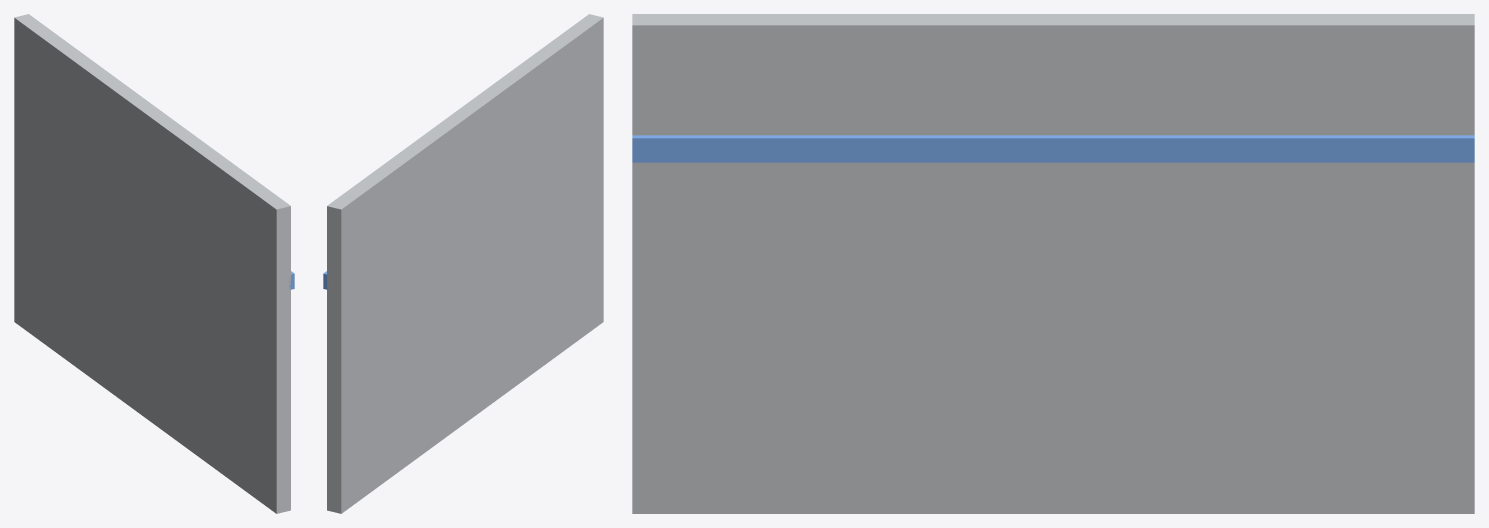
The model's file is Toy_WallPanel.fbx.
3 renders of one model, left to right at view 1: azimuth 30°, elevation 25°; view 2: azimuth 150°, elevation 25°; view 3: azimuth 270°, elevation 25°, orthographic. The views are drawn at different scales.
Visible parts, largest first — view 1: Toy_WallPanel; view 2: Toy_WallPanel; view 3: Toy_WallPanel.
Boxes of the visible parts, x1,y1,x2,y2 form: Toy_WallPanel: [14, 14, 294, 513]; Toy_WallPanel: [323, 14, 603, 513]; Toy_WallPanel: [632, 14, 1474, 513].
Bounding box in the file's own units: 0.2 × 3.2 × 5.
